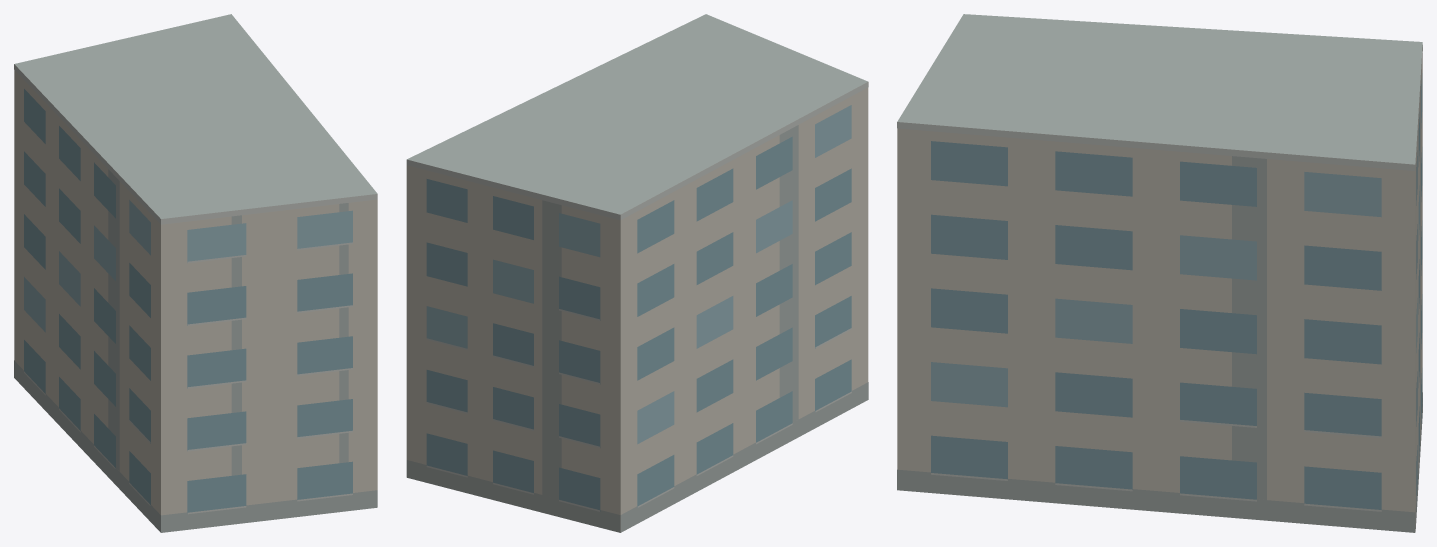
File: survey-upis-32482171.glb
The picture shows the model from 3 angles, left to right: view 1: azimuth 30°, elevation 25°; view 2: azimuth 150°, elevation 25°; view 3: azimuth 270°, elevation 25°; orthographic projection. The views are drawn at different scales.
Parts seen in each view (by area): view 1: survey-upis-32482171.tmp; view 2: survey-upis-32482171.tmp; view 3: survey-upis-32482171.tmp.
Part boxes in pixels (x1,y1,x2,y2): survey-upis-32482171.tmp: [14, 14, 377, 532]; survey-upis-32482171.tmp: [406, 14, 868, 532]; survey-upis-32482171.tmp: [897, 14, 1422, 532].
Size of the model in its own units: 12.03 by 13.7 by 17.73.
